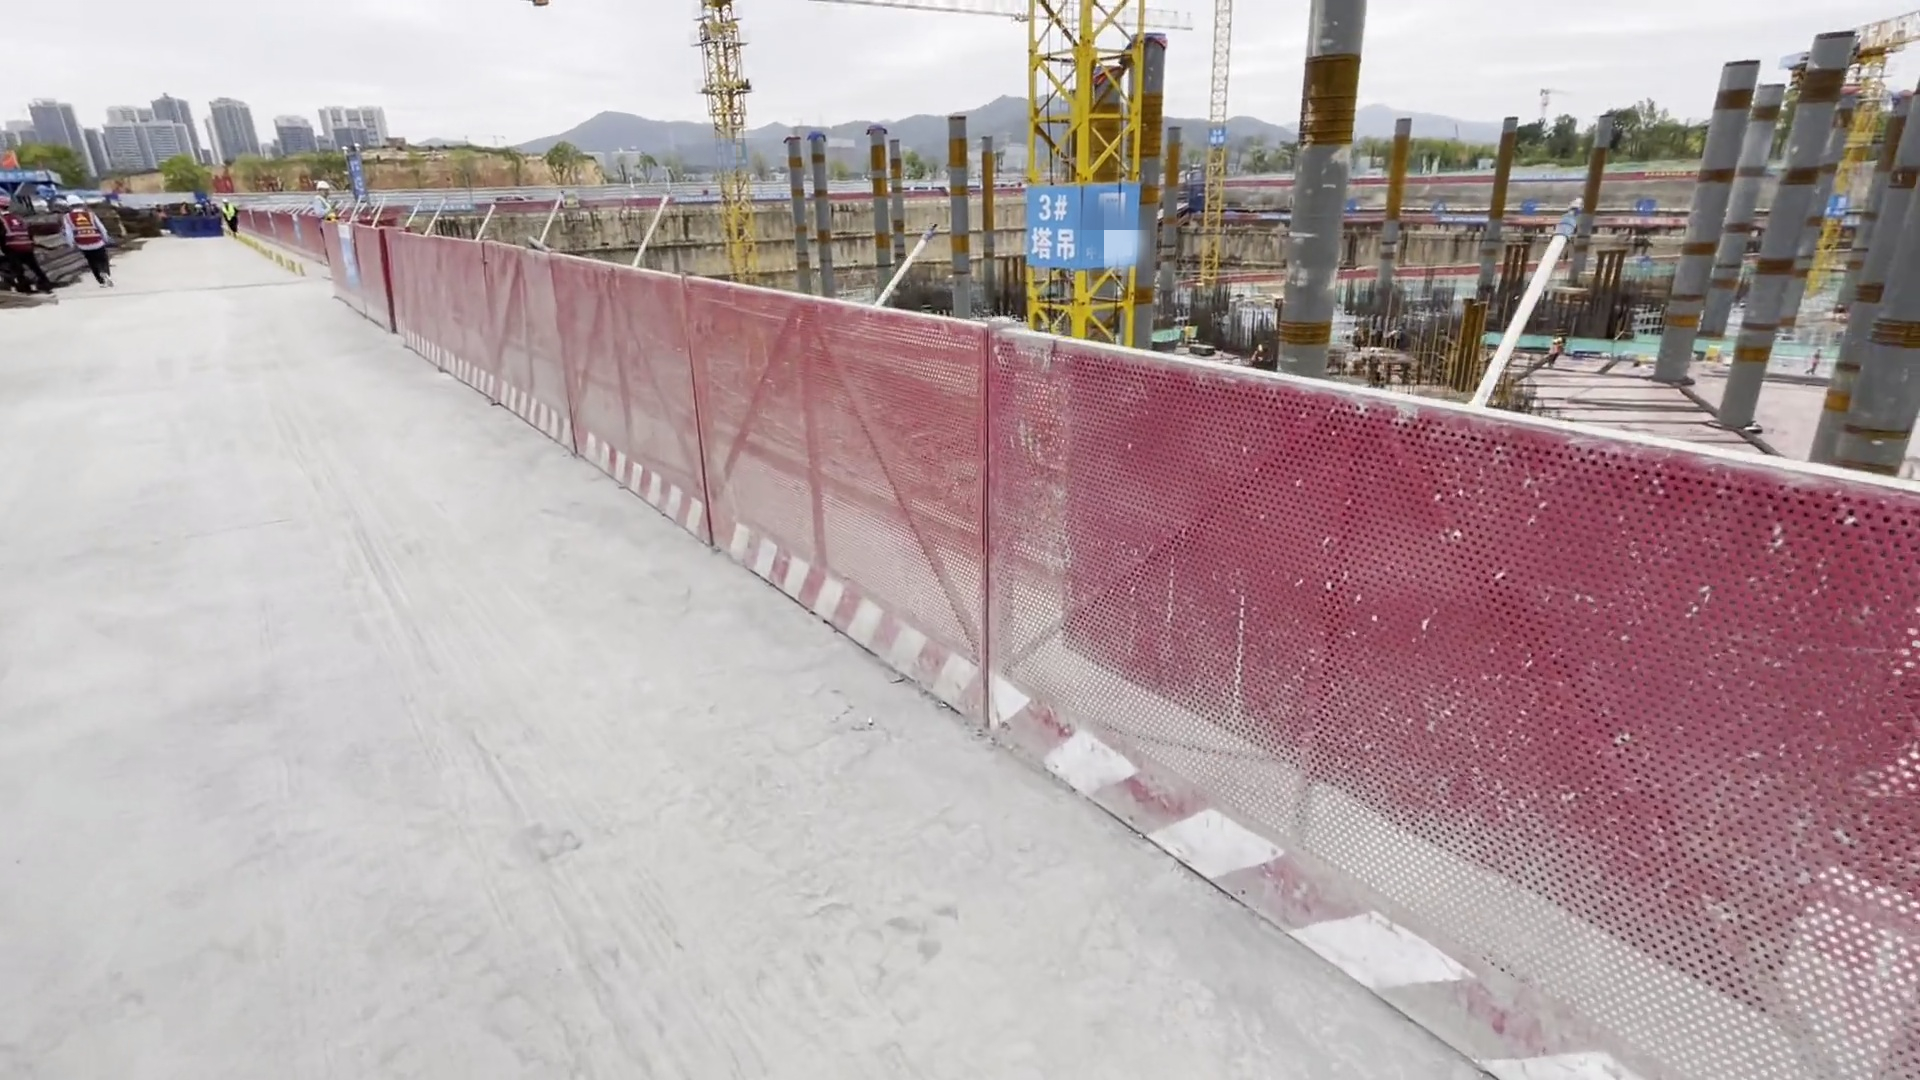fence: (1030, 371, 1918, 1080), (312, 235, 1015, 732)
helmet: (67, 194, 86, 208), (1, 196, 14, 210), (315, 179, 331, 189)
person: (1, 186, 53, 299), (63, 194, 115, 292), (312, 183, 338, 270), (218, 196, 241, 245)
vest: (69, 210, 104, 249), (1, 212, 33, 254), (220, 205, 234, 222)
